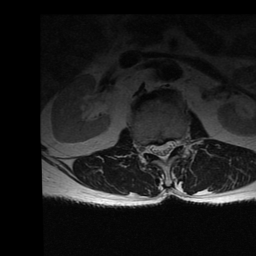CCS_normal: (158, 137, 166, 167)
LFS_normal: (175, 132, 183, 153)
LLS_normal: (166, 135, 175, 158)
RFS_normal: (141, 137, 149, 160)
RLS_normal: (149, 136, 158, 162)
